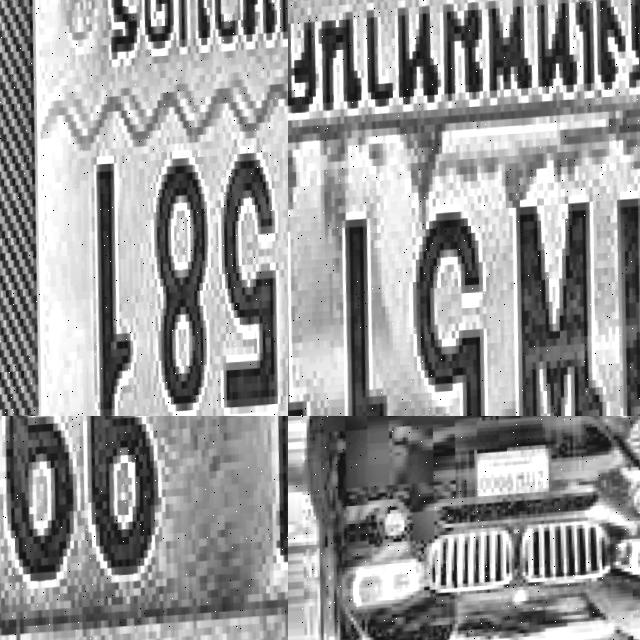license-plate: (288, 0, 640, 416), (0, 0, 288, 416), (0, 416, 288, 640), (472, 444, 558, 507)
